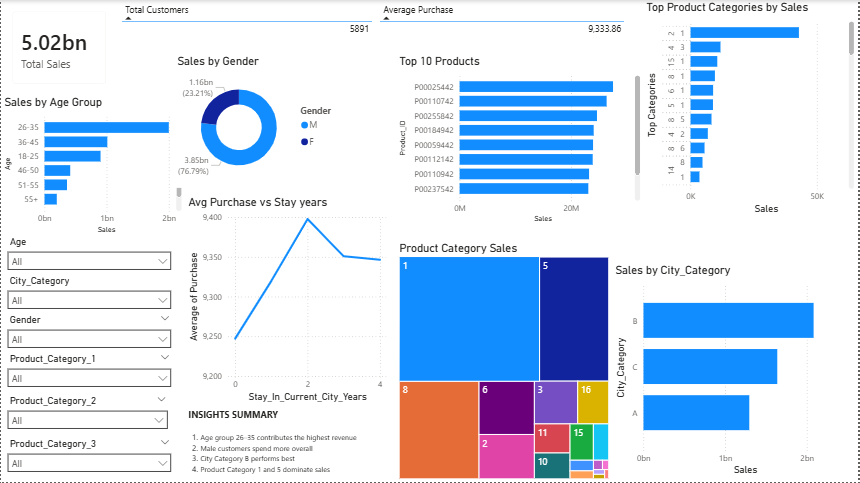

The dashboard page shown, as its layout file describes it:
{"tool":"powerbi","page":{"name":"Page 1","canvas":[1280,720],"ordinal":0},"visuals":[{"type":"cardVisual","fields":{"Data":["Sum(BlackFriday.Purchase)"]},"box":[0,0,174.3,142.6],"z":0},{"type":"tableEx","fields":{"Values":["Count(BlackFriday.User_ID)"]},"box":[174.3,0,385.6,81],"z":1000},{"type":"tableEx","title":"Total Sales","fields":{"Values":["Avg(BlackFriday.Purchase)"]},"box":[559.9,0,376.8,81],"z":2000},{"type":"barChart","title":"Top Product Categories by Sales","fields":{"Y":["CountNonNull(BlackFriday.Product_Category_1)"],"Category":["BlackFriday.Product_Category_2","BlackFriday.Product_Category_1","BlackFriday.Product_Category_3"]},"box":[959.6,0,320.4,324],"z":3000},{"type":"clusteredBarChart","title":"Sales by Age Group","fields":{"Category":["BlackFriday.Age"],"Y":["Sum(BlackFriday.Purchase)"]},"box":[0,142.6,274.7,211.3],"z":4000},{"type":"donutChart","fields":{"Y":["Sum(BlackFriday.Purchase)"],"Category":["BlackFriday.Gender"]},"box":[258.4,80.7,259.9,200.2],"z":5000},{"type":"barChart","fields":{"Y":["Sum(BlackFriday.Purchase)"],"Category":["BlackFriday.City_Category"]},"box":[912,392.6,368,322.2],"z":6000},{"type":"treemap","title":"Product Category Sales","fields":{"Values":["Sum(BlackFriday.Purchase)"],"Group":["BlackFriday.Product_Category_1","BlackFriday.Product_Category_3","BlackFriday.Product_Category_2"]},"box":[590,360,322.7,360],"z":7000},{"type":"clusteredBarChart","title":"Top 10 Products","fields":{"Y":["Sum(BlackFriday.Purchase)"],"Category":["BlackFriday.Product_ID"]},"box":[589.8,81,369.7,257.1],"z":8000},{"type":"lineChart","title":"Avg Purchase vs Stay years","fields":{"Y":["Avg(BlackFriday.Purchase)"],"Category":["BlackFriday.Stay_In_Current_City_Years"]},"box":[274.9,291.3,306.2,313.7],"z":8001},{"type":"slicer","fields":{"Values":["BlackFriday.Age"]},"box":[0,348.6,264.1,58.1],"z":8002},{"type":"slicer","fields":{"Values":["BlackFriday.City_Category"]},"box":[0,406.7,264.1,58.1],"z":8003},{"type":"slicer","fields":{"Values":["BlackFriday.Gender"]},"box":[0,464.8,264.1,58.1],"z":8004},{"type":"slicer","fields":{"Values":["BlackFriday.Product_Category_1"]},"box":[0,522.9,264.1,61.6],"z":8005},{"type":"slicer","fields":{"Values":["BlackFriday.Product_Category_2"]},"box":[0,586.3,258.8,63.4],"z":8006},{"type":"slicer","fields":{"Values":["BlackFriday.Product_Category_3"]},"box":[0,649.7,264.1,65.1],"z":8007},{"type":"textbox","box":[274.9,605,267.4,110.5],"z":8008}]}

Visuals, with their boxes in screenshot pixels (x1, y1, x2, y2), scaled from the page's 1280x720 canvas onto the 860x483 screenshot:
cardVisual - Sum(BlackFriday.Purchase): [0,0,117,96]
tableEx - Count(BlackFriday.User_ID): [117,0,376,54]
"Total Sales" tableEx: [376,0,629,54]
"Top Product Categories by Sales" barChart: [645,0,859,217]
"Sales by Age Group" clusteredBarChart: [0,96,185,237]
donutChart - Sum(BlackFriday.Purchase) x BlackFriday.Gender: [174,54,348,188]
barChart - Sum(BlackFriday.Purchase) x BlackFriday.City_Category: [613,263,859,480]
"Product Category Sales" treemap: [396,241,613,482]
"Top 10 Products" clusteredBarChart: [396,54,645,227]
"Avg Purchase vs Stay years" lineChart: [185,195,390,406]
slicer - BlackFriday.Age: [0,234,177,273]
slicer - BlackFriday.City_Category: [0,273,177,312]
slicer - BlackFriday.Gender: [0,312,177,351]
slicer - BlackFriday.Product_Category_1: [0,351,177,392]
slicer - BlackFriday.Product_Category_2: [0,393,174,436]
slicer - BlackFriday.Product_Category_3: [0,436,177,480]
textbox: [185,406,364,480]
